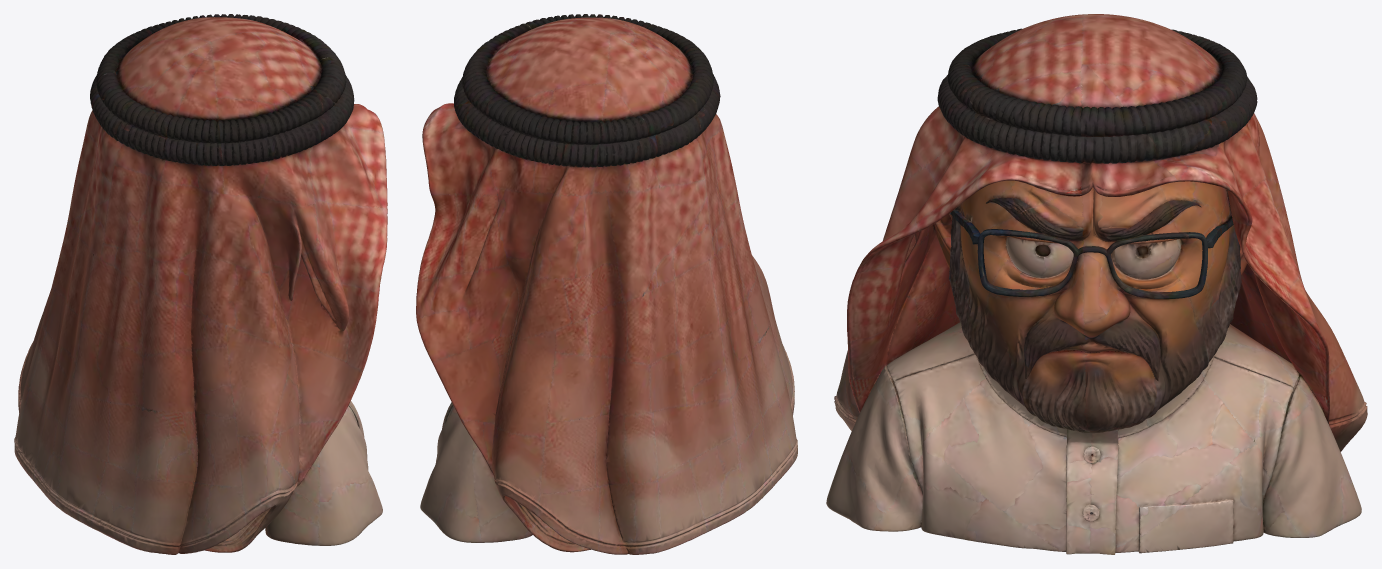
The model's file is dabbrini.preview-v1.glb.
The picture shows the model from 3 angles, left to right: view 1: azimuth 30°, elevation 25°; view 2: azimuth 150°, elevation 25°; view 3: azimuth 270°, elevation 25°; orthographic projection. The views are drawn at different scales.
Parts seen in each view (by area): view 1: shaik; view 2: shaik; view 3: shaik.
Part boxes in pixels (left/top/right/bottom): shaik: left=14, top=14, right=387, bottom=554; shaik: left=416, top=14, right=797, bottom=554; shaik: left=826, top=14, right=1367, bottom=554.
Size of the model in its own units: 0.9565 by 1.33 by 1.32.
1 material, 1 textured.
